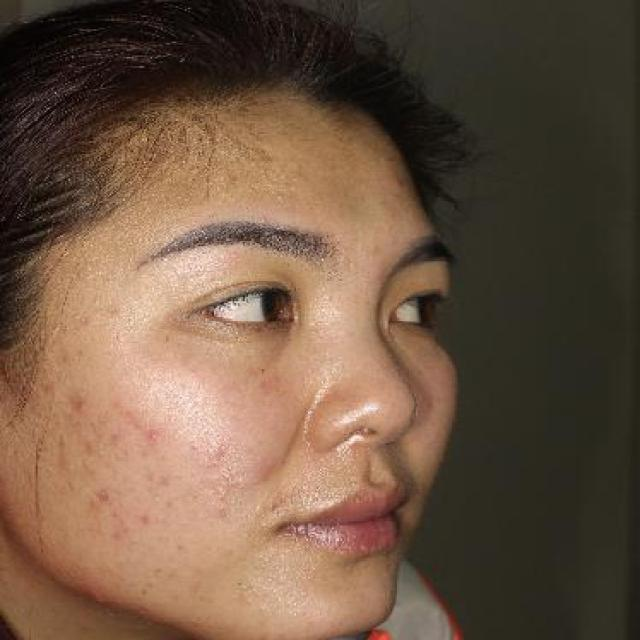dark spot: (134, 412, 168, 454), (82, 482, 118, 520), (65, 385, 98, 426), (98, 517, 132, 551), (139, 503, 154, 529)
